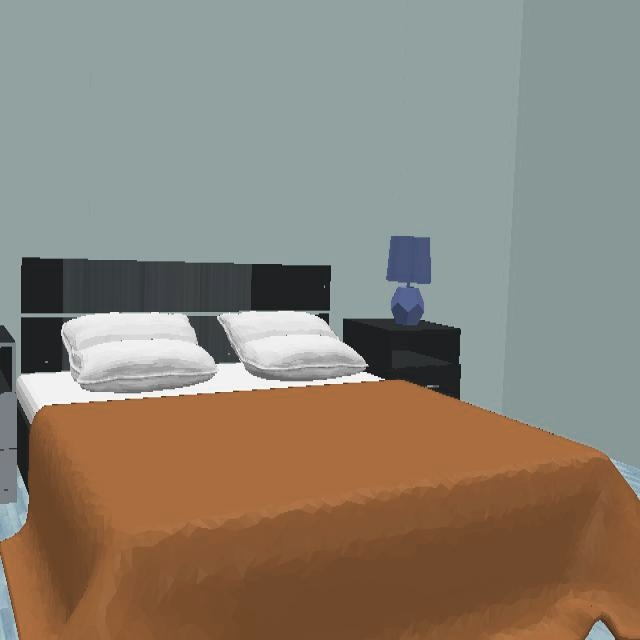bed: (0, 261, 640, 638)
lamp: (386, 237, 431, 325)
nighttable: (344, 318, 460, 398)
